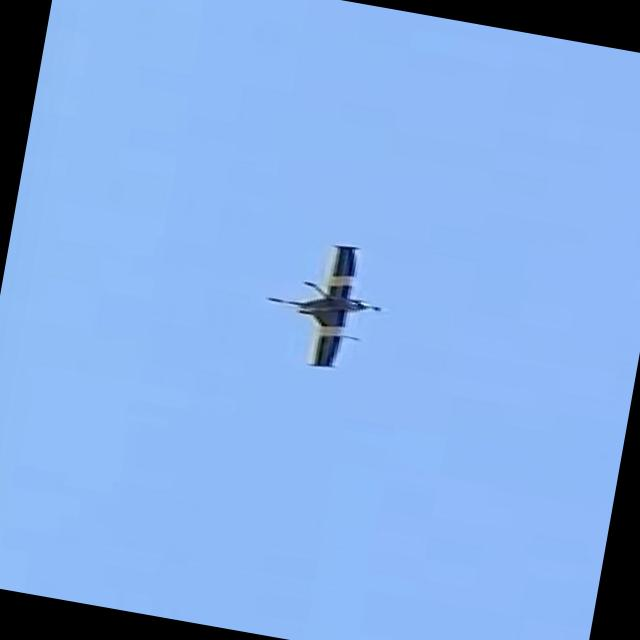UAV: (238, 219, 390, 429)
